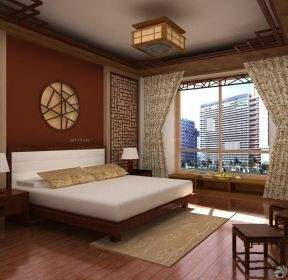床: (28, 170, 191, 236)
枕头: (32, 163, 128, 189)
灯: (129, 20, 186, 61), (119, 147, 139, 173)
